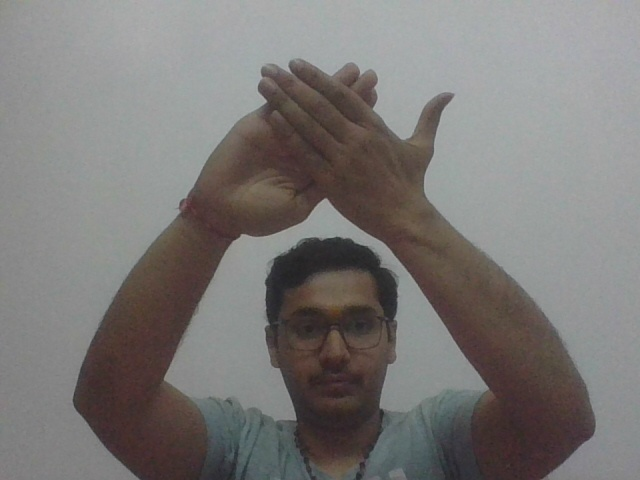H: (189, 51, 457, 240)
